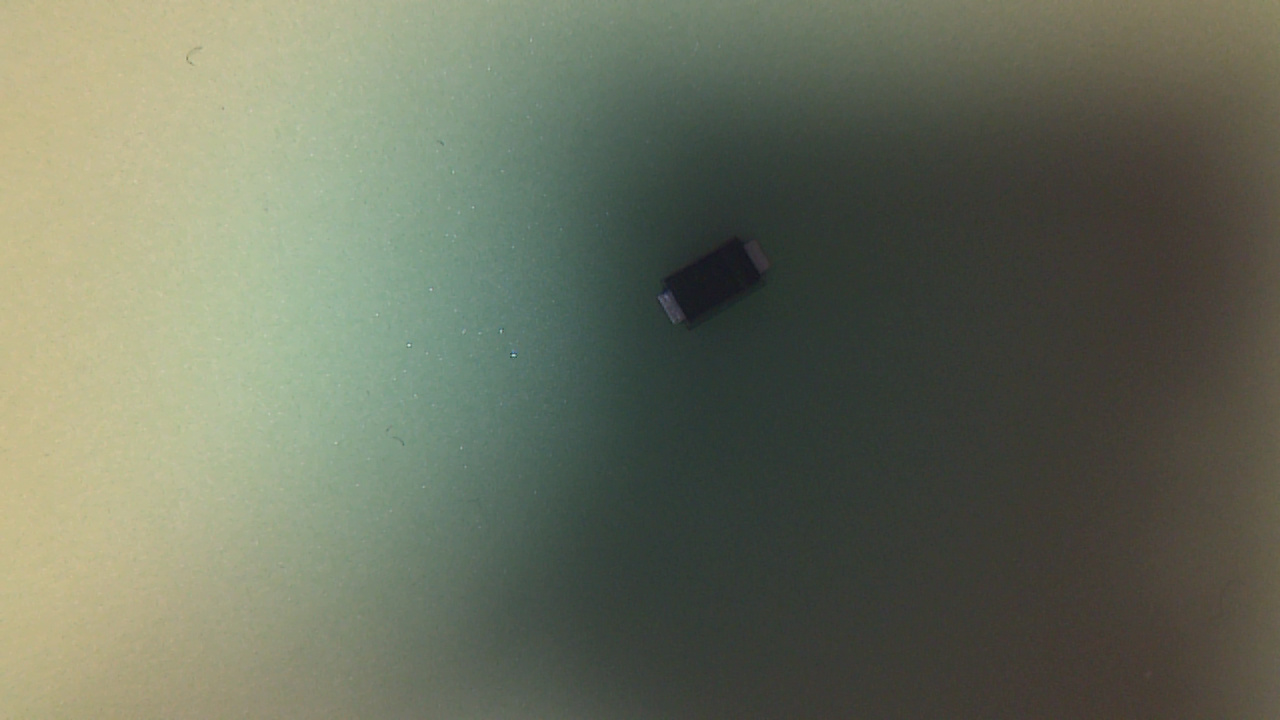Diode: (658, 235, 783, 336)
